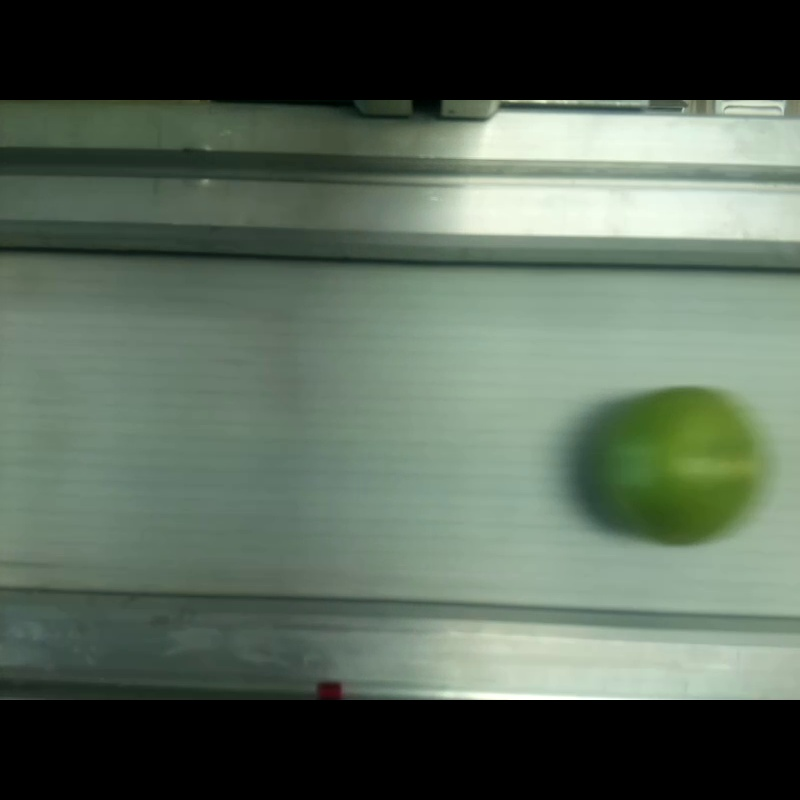lime: (596, 389, 759, 541)
